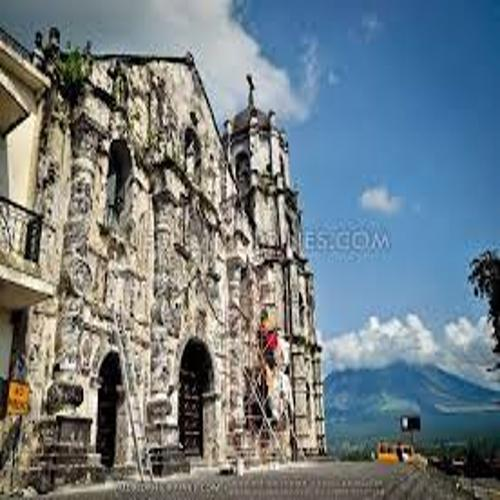Daraga Church: (41, 27, 330, 466)
